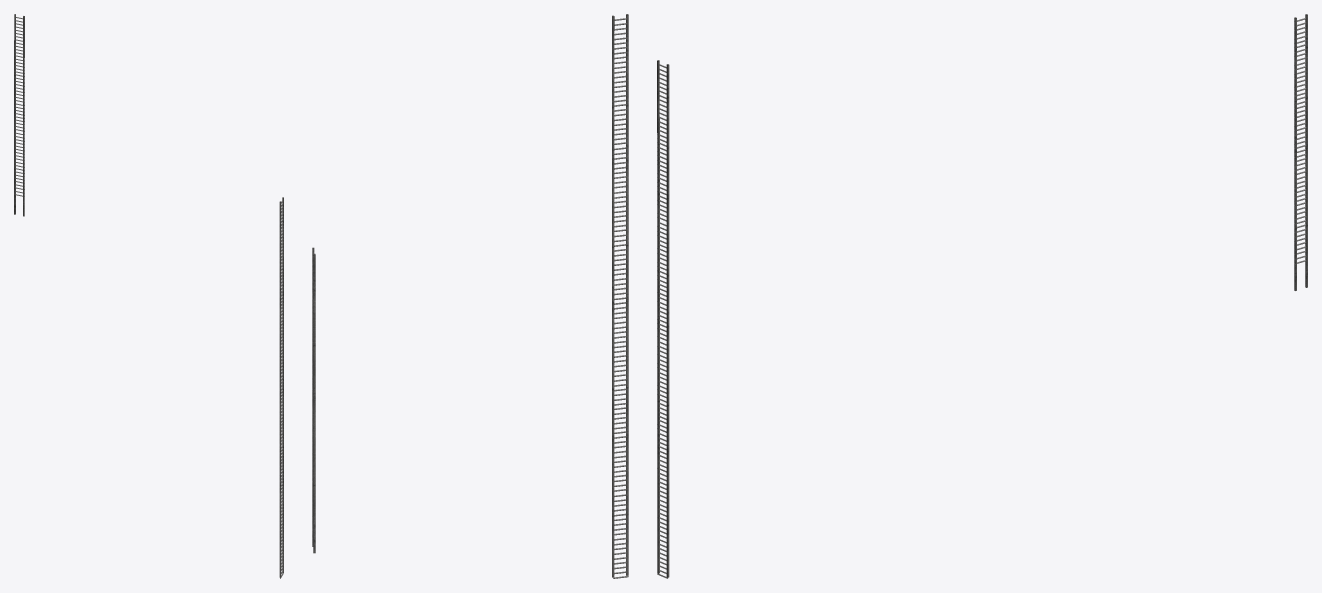
Rendered from ladders.fbx.
The picture shows the model from 3 angles, left to right: view 1: azimuth 30°, elevation 25°; view 2: azimuth 150°, elevation 25°; view 3: azimuth 270°, elevation 25°; orthographic projection. The views are drawn at different scales.
Parts seen in each view (by area): view 1: ladders; view 2: ladders; view 3: ladders.
Part boxes in pixels (bbox=[...]): ladders: bbox=[14, 14, 283, 578]; ladders: bbox=[312, 14, 628, 578]; ladders: bbox=[657, 14, 1307, 578].
Bounding box in the file's own units: 492 × 5242 × 5706.
